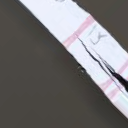crackTip: (73, 29, 128, 93)
